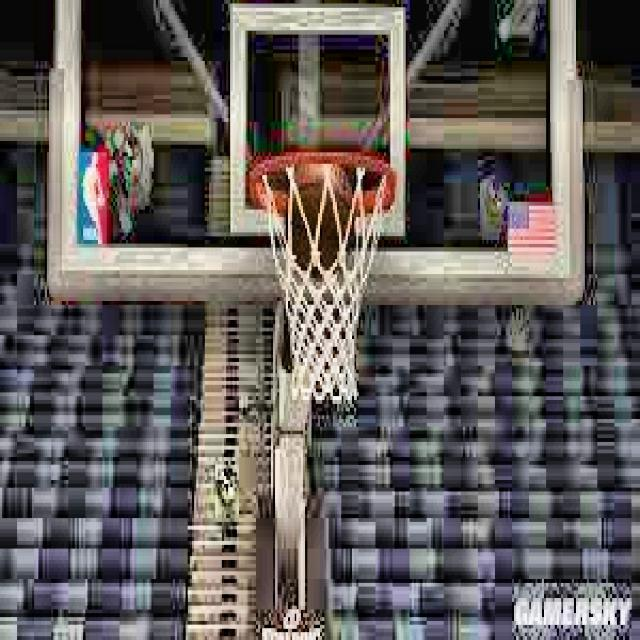rim: (251, 150, 394, 402)
